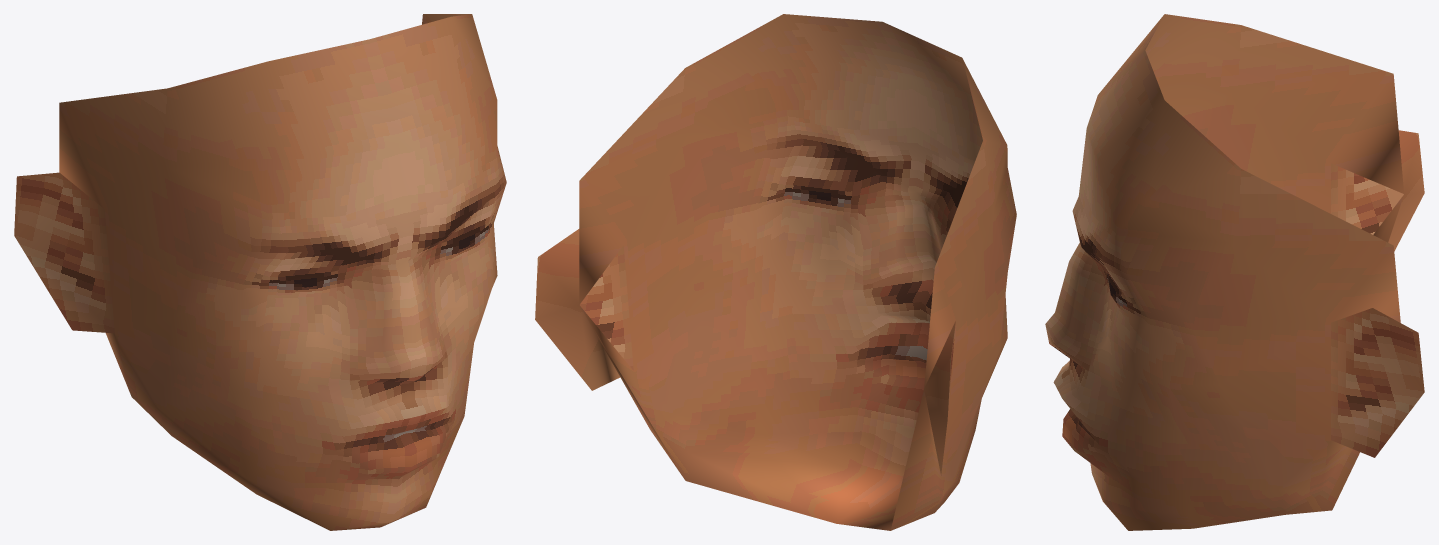
The picture shows the model from 3 angles, left to right: view 1: azimuth 30°, elevation 25°; view 2: azimuth 150°, elevation 25°; view 3: azimuth 270°, elevation 25°; orthographic projection. The views are drawn at different scales.
Size of the model in its own units: 17.18 by 18.64 by 13.81.
1 material, 1 textured.
